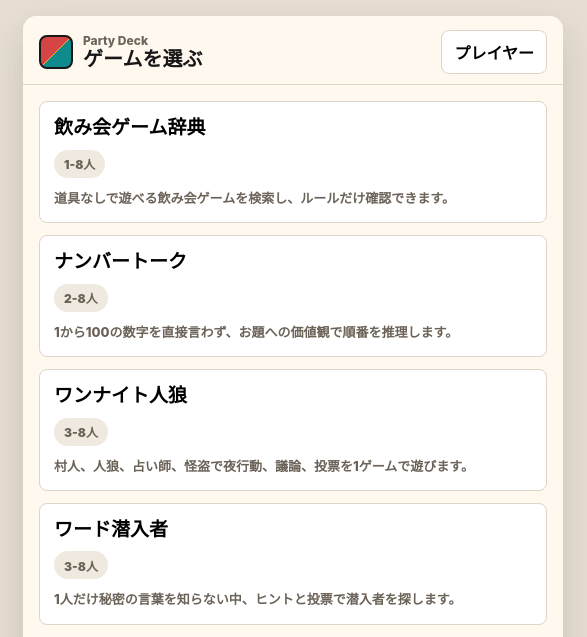
Scenario: App pass-and-play flows › previews and rerolls the Number Talk topic before starting
What coordinates should you click on to do the following:
click the button "ナンバートーク 2-8人 1から100の数字を直接言わず、お題への価値観で順番を推理します。"
I would click on:
 (121, 261)
Its box is x1=39 y1=235 x2=547 y2=357.
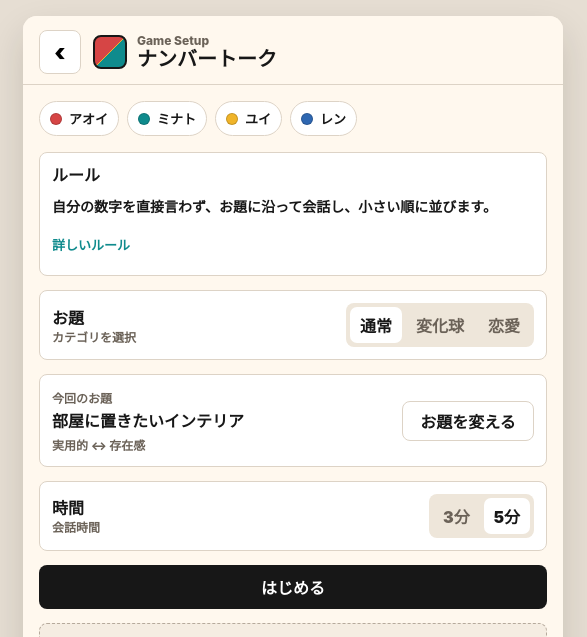
What coordinates should you click on to do the following:
click the button "お題を変える"
I would click on:
 (468, 421)
Its box is x1=402 y1=401 x2=534 y2=441.
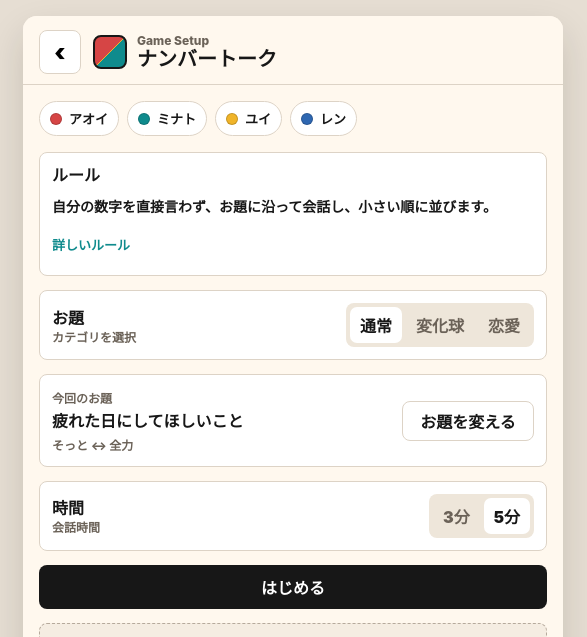
Now the text "部屋に置きたいインテリア" is gone
